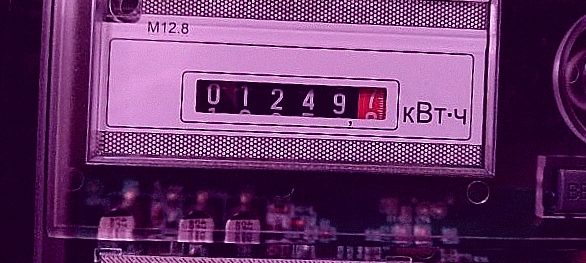0: (204, 80, 222, 106)
1: (236, 81, 251, 108)
2: (266, 86, 284, 113)
4: (299, 86, 316, 111)
7: (363, 84, 379, 111)
9: (329, 90, 347, 116)
screen: (177, 60, 403, 142)
